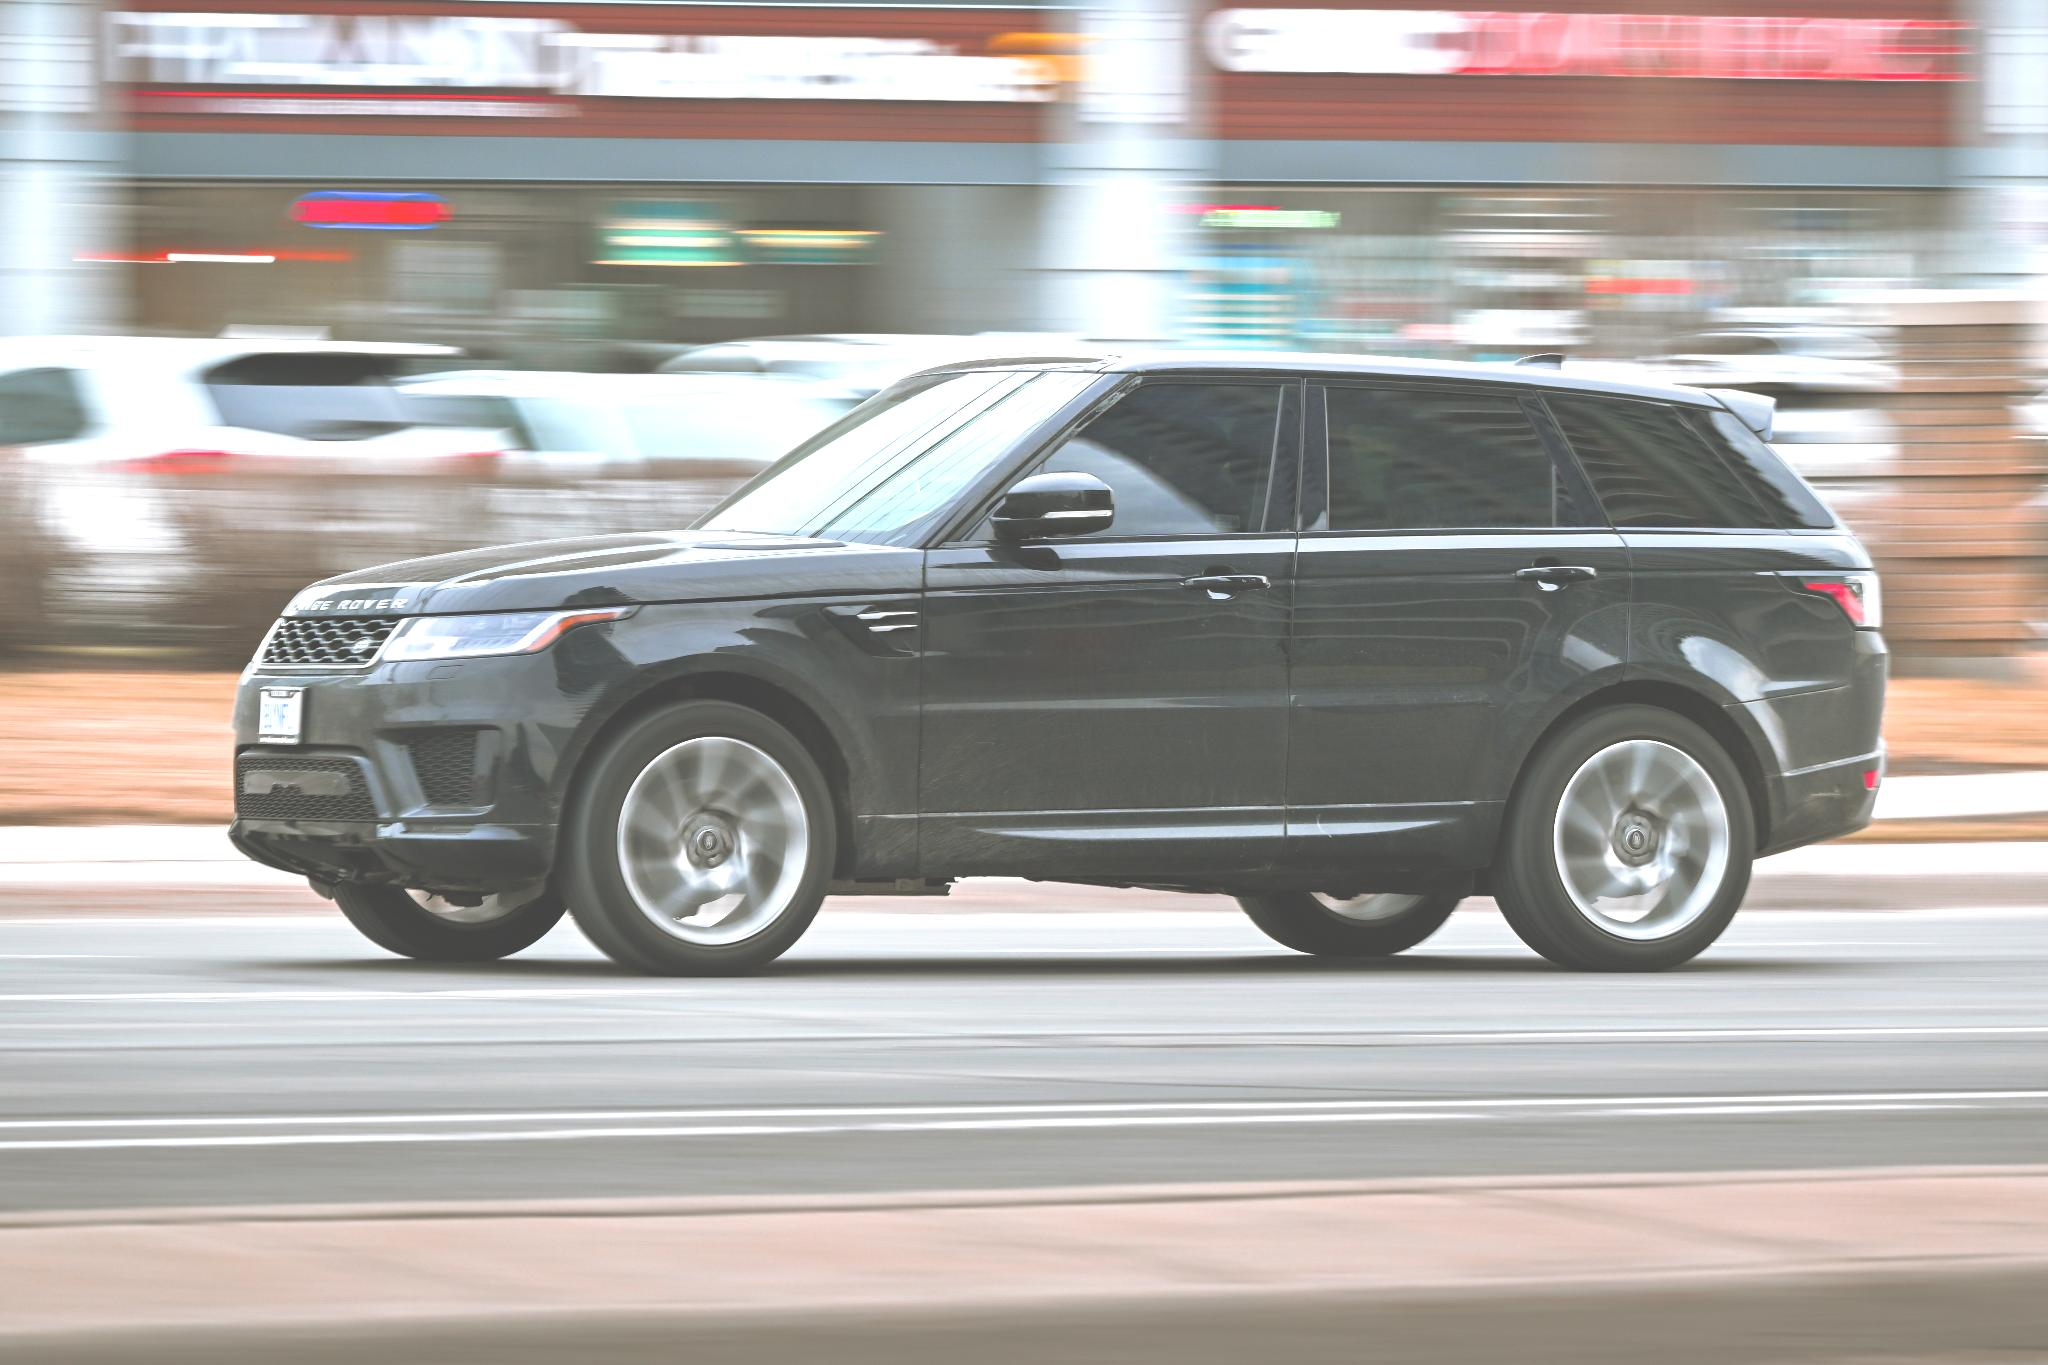range rover: (276, 585, 423, 629)
